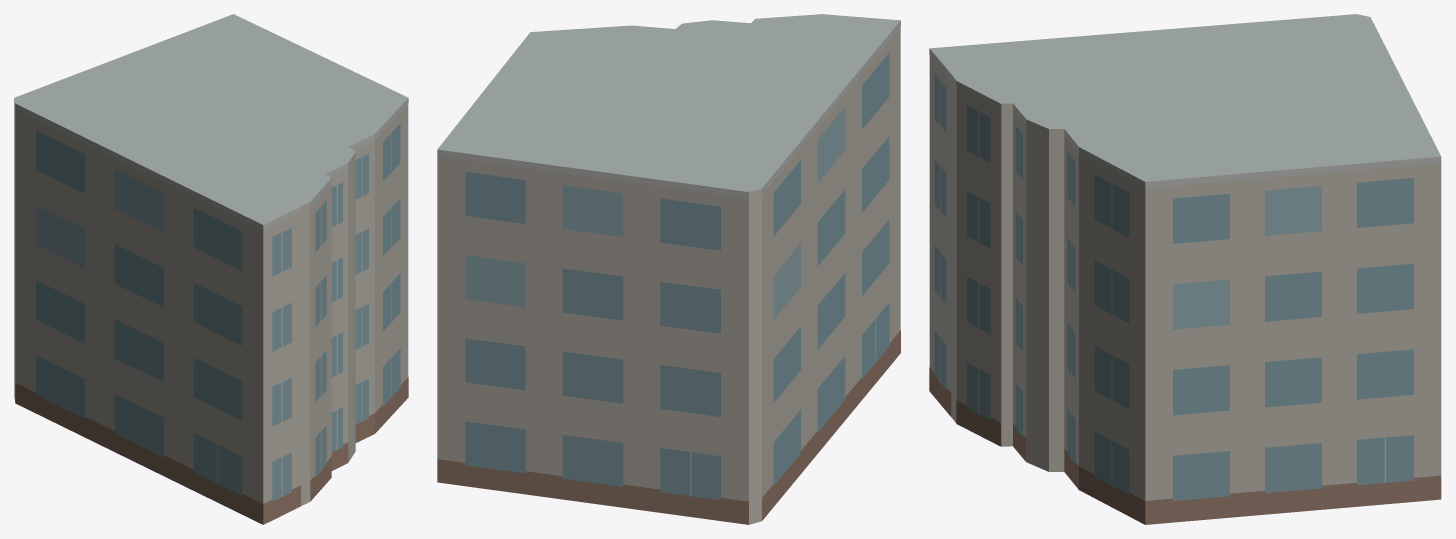
Rendered from survey-upis-32910626.glb.
The picture shows the model from 3 angles, left to right: view 1: azimuth 30°, elevation 25°; view 2: azimuth 150°, elevation 25°; view 3: azimuth 270°, elevation 25°; orthographic projection. The views are drawn at different scales.
Visible parts, largest first — view 1: survey-upis-32910626.tmp; view 2: survey-upis-32910626.tmp; view 3: survey-upis-32910626.tmp.
Boxes of the visible parts, x1,y1,x2,y2 form: survey-upis-32910626.tmp: [14, 14, 408, 524]; survey-upis-32910626.tmp: [437, 14, 900, 524]; survey-upis-32910626.tmp: [929, 14, 1441, 524].
Bounding box in the file's own units: 13.57 × 12.91 × 17.47.
